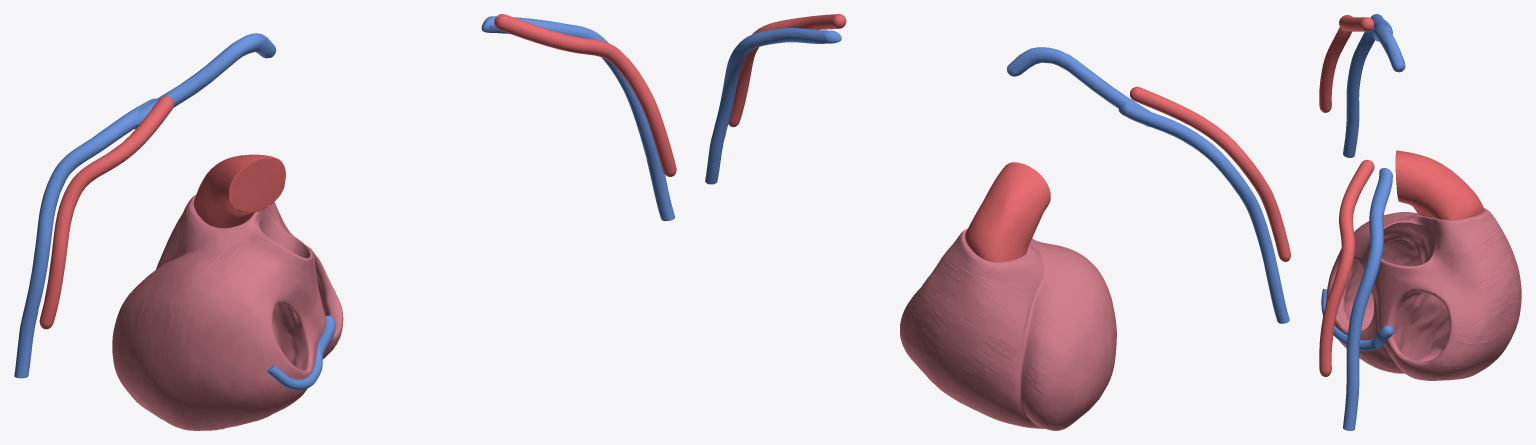
The model's file is additional_circulatory.glb.
3 views of the same model, side by side, from view 1: azimuth 30°, elevation 25°; view 2: azimuth 150°, elevation 25°; view 3: azimuth 270°, elevation 25° (orthographic). The views are drawn at different scales.
Visible parts, largest first — view 1: FJ2428, FJ2966, FJ2217, FJ2216, FJ2268, FJ2269, FJ3486, FJ2655; view 2: FJ2428, FJ2966, FJ2217, FJ2216, FJ2269, FJ3486, FJ2268; view 3: FJ2428, FJ2966, FJ2269, FJ2268, FJ2217, FJ2216, FJ3486, FJ2655.
Boxes of the visible parts, x1,y1,x2,y2 form: FJ2428: (112,195,343,430); FJ2966: (193,154,285,228); FJ2217: (14,98,156,378); FJ2216: (39,96,173,329); FJ2268: (494,14,676,176); FJ2269: (481,16,675,221); FJ3486: (134,33,276,129); FJ2655: (266,315,335,390); FJ2428: (900,228,1116,430); FJ2966: (965,162,1050,262); FJ2217: (1118,103,1289,323); FJ2216: (1130,86,1290,261); FJ2269: (705,28,841,184); FJ3486: (1007,47,1150,126); FJ2268: (728,14,846,127); FJ2428: (1326,208,1521,380); FJ2966: (1395,150,1484,220); FJ2269: (1343,168,1392,430); FJ2268: (1319,160,1374,376); FJ2217: (1343,14,1392,157); FJ2216: (1319,15,1374,112); FJ3486: (1372,23,1405,72); FJ2655: (1321,288,1393,351).
Bounding box in the file's own units: 31.43 × 17.93 × 9.65.
